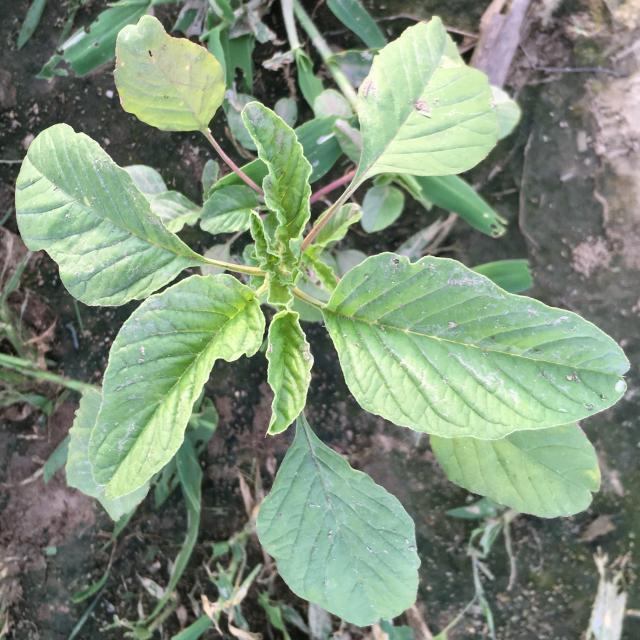PalmerAmaranth: (15, 15, 631, 628)
